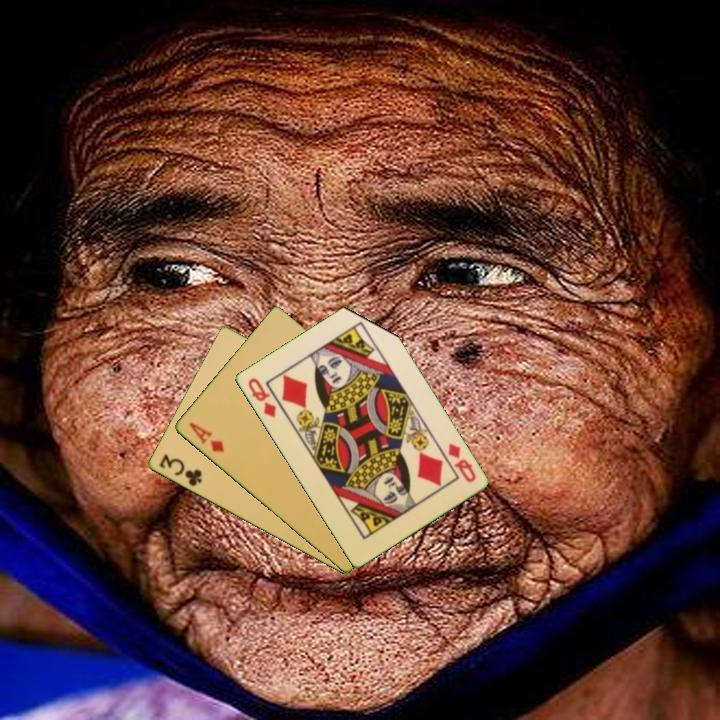3c: (155, 450, 205, 490)
Ad: (185, 419, 227, 455)
Qd: (244, 374, 279, 420), (444, 439, 479, 485)
